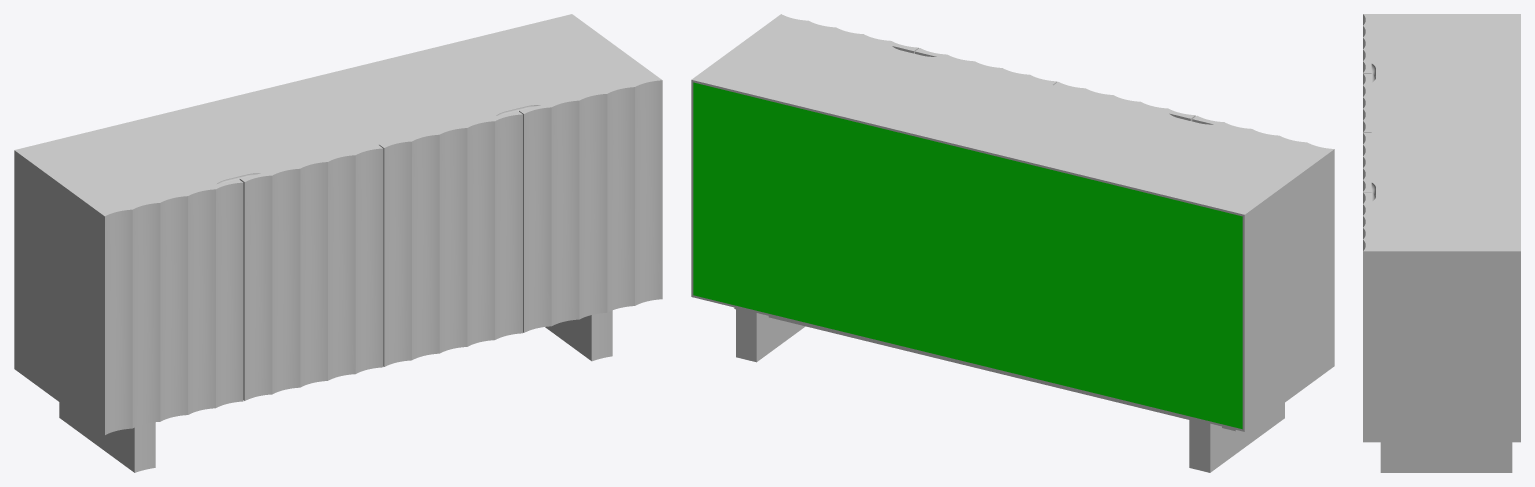
File: fluted-sideboard.glb
3 views of the same model, side by side, from view 1: azimuth 30°, elevation 25°; view 2: azimuth 150°, elevation 25°; view 3: azimuth 270°, elevation 25° (orthographic). The views are drawn at different scales.
Parts seen in each view (by area): view 1: 3DSOLID-69, 3DSOLID-6F, 3DSOLID-C2, 3DSOLID-CE, 3DSOLID-94, 3DSOLID-B0, 3DSOLID-A4, 3DSOLID-B7, 3DSOLID-C6, 3DSOLID-98, 3DSOLID-D1, 3DSOLID-D5 (+12 smaller); view 2: 3DSOLID-6A, 3DSOLID-69, 3DSOLID-6F, 3DSOLID-82, 3DSOLID-7F, 3DSOLID-6E, 3DSOLID-C2, 3DSOLID-85; view 3: 3DSOLID-69, 3DSOLID-67, 3DSOLID-7F, 3DSOLID-9C.
Boxes of the visible parts, <box> form: 3DSOLID-69: <box>14,14,657,212</box>; 3DSOLID-6F: <box>14,150,99,431</box>; 3DSOLID-C2: <box>99,206,132,434</box>; 3DSOLID-CE: <box>239,172,272,400</box>; 3DSOLID-94: <box>519,103,551,332</box>; 3DSOLID-B0: <box>379,138,411,366</box>; 3DSOLID-A4: <box>575,90,607,319</box>; 3DSOLID-B7: <box>435,124,467,353</box>; 3DSOLID-C6: <box>128,199,160,427</box>; 3DSOLID-98: <box>547,97,579,325</box>; 3DSOLID-D1: <box>268,165,300,394</box>; 3DSOLID-D5: <box>351,145,383,373</box>; 3DSOLID-6A: <box>693,82,1242,429</box>; 3DSOLID-69: <box>691,17,1328,216</box>; 3DSOLID-6F: <box>1242,153,1329,431</box>; 3DSOLID-82: <box>1189,403,1284,472</box>; 3DSOLID-7F: <box>736,308,805,362</box>; 3DSOLID-6E: <box>692,295,1244,431</box>; 3DSOLID-C2: <box>1302,142,1334,369</box>; 3DSOLID-85: <box>734,307,1236,431</box>; 3DSOLID-69: <box>1371,14,1520,251</box>; 3DSOLID-67: <box>1371,251,1520,442</box>; 3DSOLID-7F: <box>1380,442,1512,472</box>; 3DSOLID-9C: <box>1363,239,1371,442</box>.
Size of the model in its own units: 1.6 by 0.75 by 0.45.
